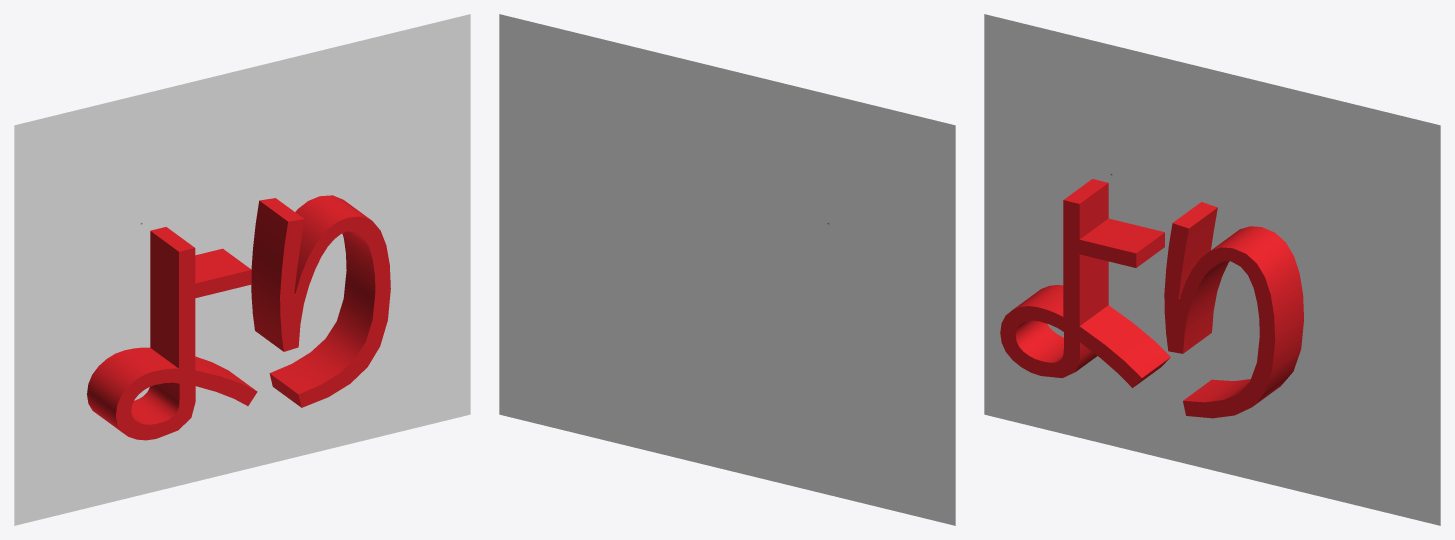
Rendered from yori_yoko_.fbx.
The picture shows the model from 3 angles, left to right: view 1: azimuth 30°, elevation 25°; view 2: azimuth 150°, elevation 25°; view 3: azimuth 330°, elevation 25°; orthographic projection.
Parts seen in each view (by area): view 1: root, node_id235; view 2: root; view 3: root, node_id235.
Boxes of the visible parts, box(x1,y1,x2,y2) form: root: box(14, 14, 470, 525); node_id235: box(87, 195, 390, 440); root: box(499, 14, 955, 525); root: box(984, 14, 1440, 525); node_id235: box(1000, 179, 1303, 418).
Bounding box in the file's own units: 1.63 × 1.37 × 0.2651.
Materials: 2 (1 with a texture image).
